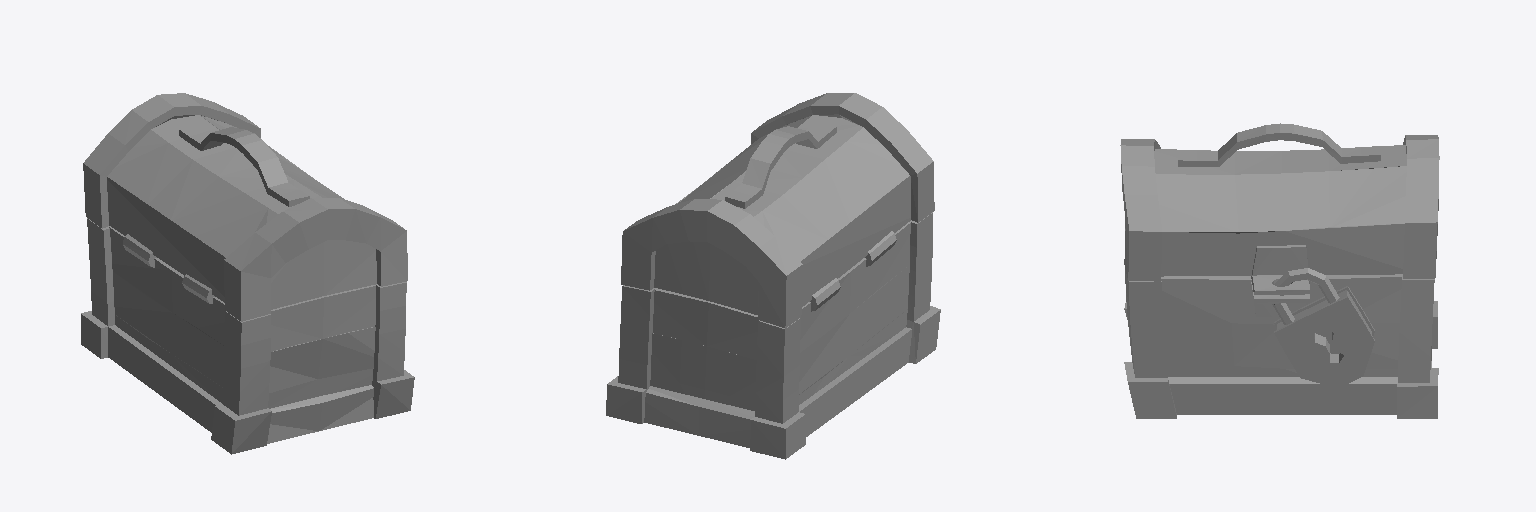
Rendered from Treasure_Chest_001.obj.
3 renders of one model, left to right at view 1: azimuth 30°, elevation 25°; view 2: azimuth 150°, elevation 25°; view 3: azimuth 270°, elevation 25°, orthographic.
Visible parts, largest first — view 1: Cube.008; view 2: Cube.008; view 3: Cube.008.
Part boxes in pixels (x1,y1,x2,y2): Cube.008: (81,93,414,454); Cube.008: (606,93,940,459); Cube.008: (1120,123,1439,418).
Bounding box in the file's own units: 2.56 × 3.1 × 3.65.